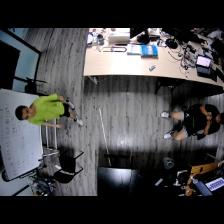normal: (14, 93, 84, 132), (162, 104, 224, 140)
